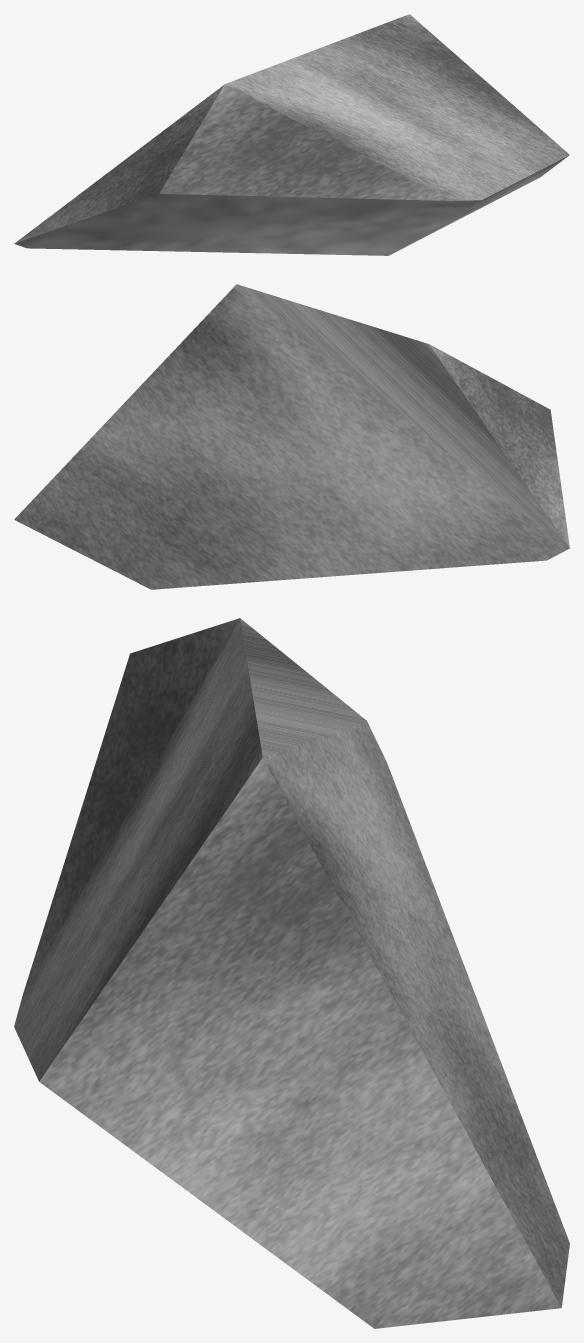
Rendered from body_cell_042.fbx.
3 renders of one model, top to bottom at view 1: azimuth 30°, elevation 25°; view 2: azimuth 150°, elevation 25°; view 3: azimuth 270°, elevation 25°, orthographic. The views are drawn at different scales.
Visible parts, largest first — view 1: body_cell.042; view 2: body_cell.042; view 3: body_cell.042.
Boxes of the visible parts, left/top/right/bottom form: body_cell.042: left=14, top=14, right=569, bottom=255; body_cell.042: left=14, top=284, right=569, bottom=589; body_cell.042: left=14, top=618, right=569, bottom=1328.
Size of the model in its own units: 39.05 by 18.56 by 18.82.
